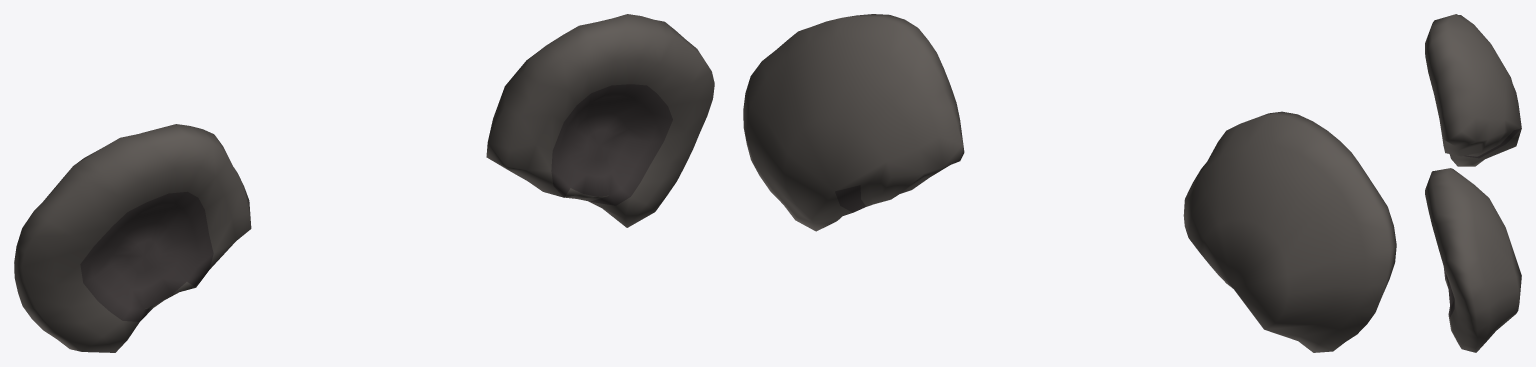
Rendered from Hat_118_02.fbx.
3 renders of one model, left to right at view 1: azimuth 30°, elevation 25°; view 2: azimuth 150°, elevation 25°; view 3: azimuth 270°, elevation 25°, orthographic. The views are drawn at different scales.
Parts seen in each view (by area): view 1: Hat_118_02; view 2: Hat_118_02; view 3: Hat_118_02.
Part boxes in pixels (x1,y1,x2,y2): Hat_118_02: (14,14,714,352); Hat_118_02: (743,14,1396,352); Hat_118_02: (1425,14,1521,352).
Size of the model in its own units: 33.66 by 10.51 by 5.76.
